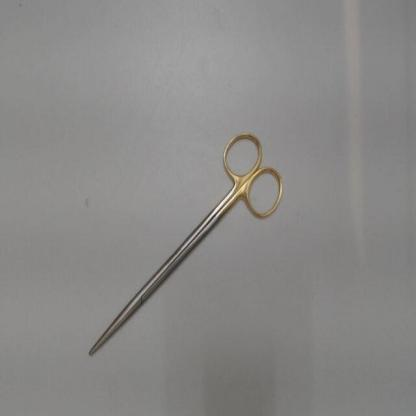7 Metzenbaum Scissors: (88, 128, 286, 359)
